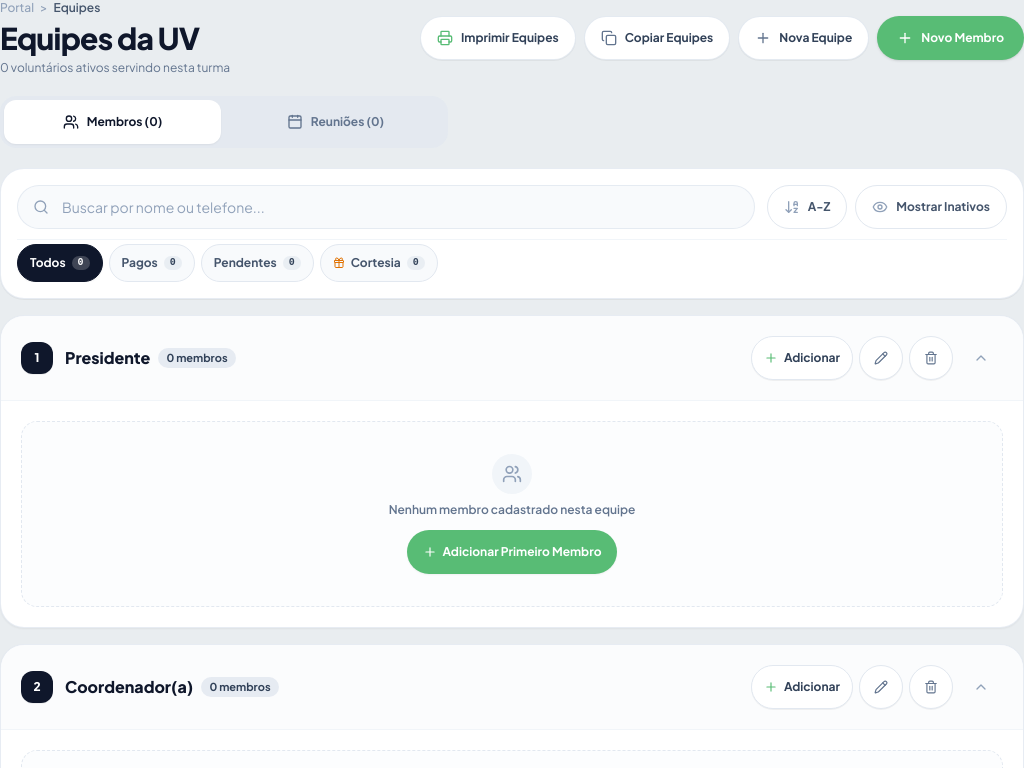
Scenario: TeamsPage › deve abrir o modal de nova equipe ao clicar em "Nova Equipe"
What coordinates should you click on to do the following:
click the button "Nova Equipe"
I would click on:
 (804, 38)
Its box is [738,16,869,60].
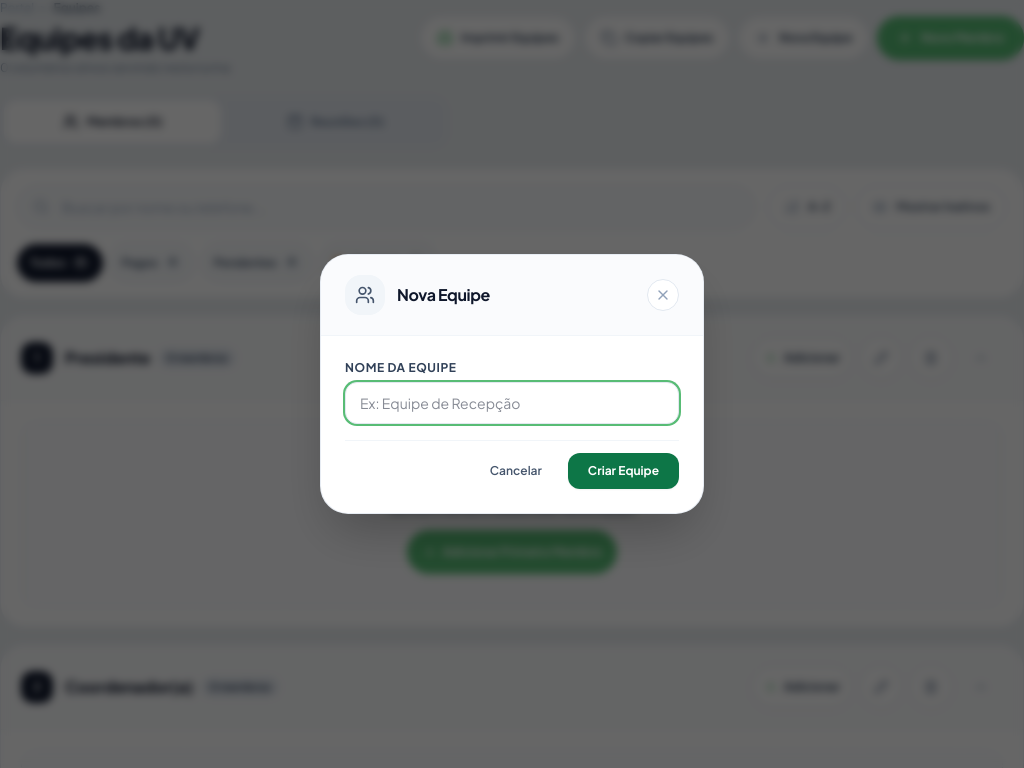
Result: the heading "Nova Equipe" is shown at [397,283,490,307]
